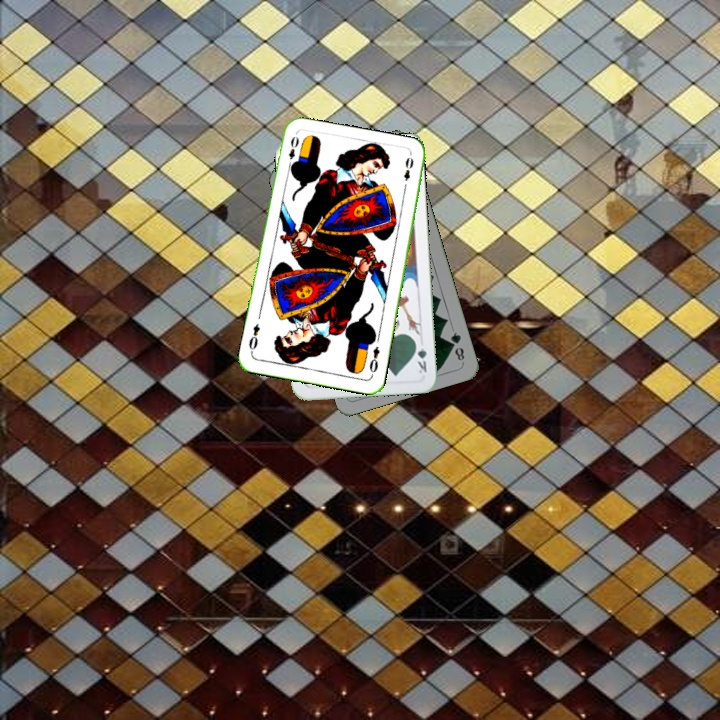EO: (284, 133, 301, 171), (365, 343, 382, 378)
G8: (446, 328, 467, 365)
GK: (411, 337, 429, 376)
